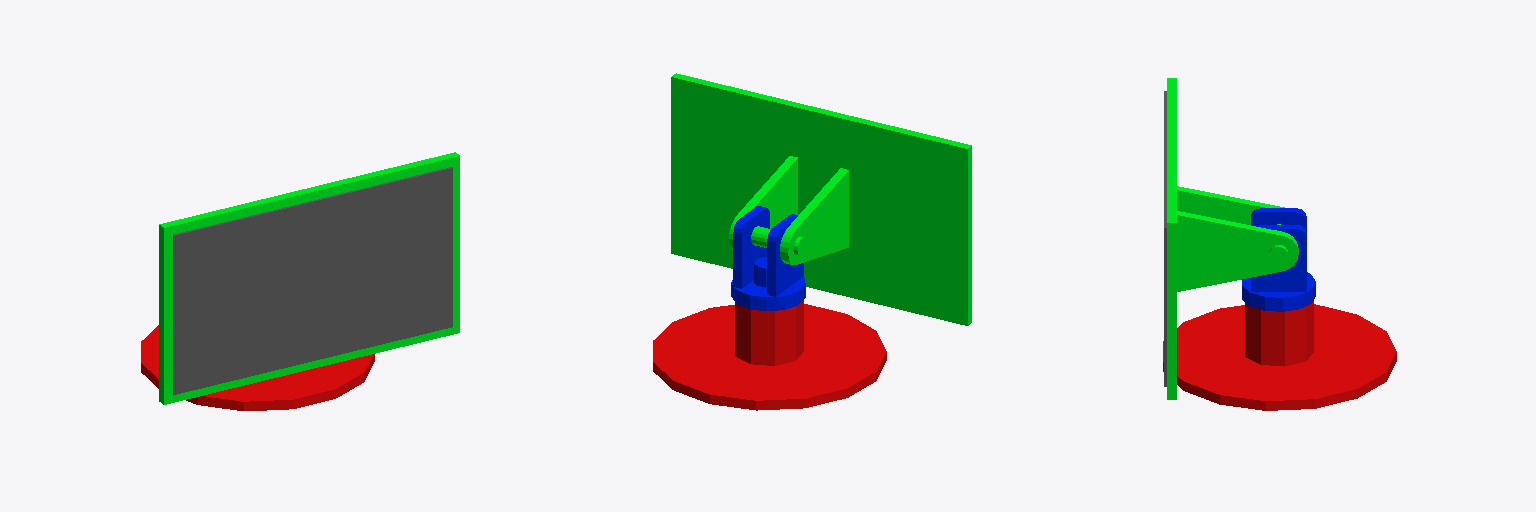
File: OJB.obj
The picture shows the model from 3 angles: view 1: azimuth 30°, elevation 25°; view 2: azimuth 150°, elevation 25°; view 3: azimuth 270°, elevation 25°; orthographic projection.
Parts seen in each view (by area): view 1: Solid1:3, Solid1:2, Solid1; view 2: Solid1:2, Solid1, Solid1:1; view 3: Solid1, Solid1:2, Solid1:1, Solid1:3.
Part boxes in pixels (x1,y1,x2,y2): Solid1:3: (173,167,452,394); Solid1:2: (159,152,459,404); Solid1: (141,325,374,410); Solid1:2: (671,73,971,325); Solid1: (653,300,886,410); Solid1:1: (731,206,805,310); Solid1: (1163,301,1396,410); Solid1:2: (1167,78,1298,399); Solid1:1: (1242,208,1315,311); Solid1:3: (1164,91,1166,386).
Size of the model in its own units: 70 by 47.59 by 47.81.